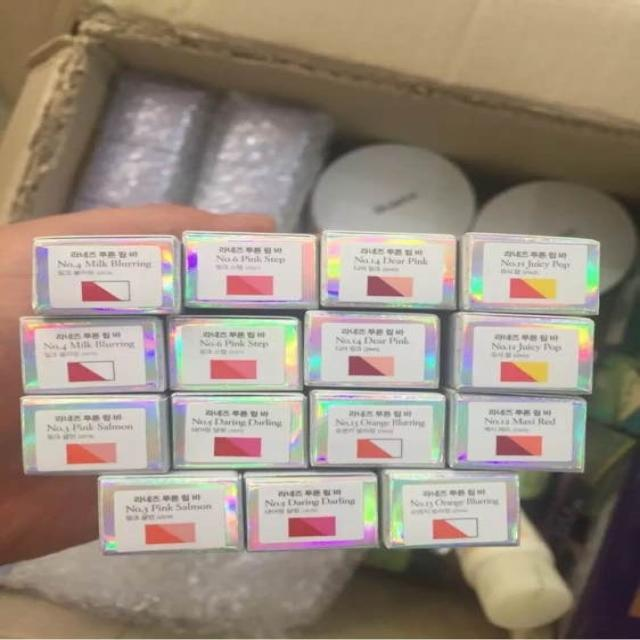box: (100, 468, 244, 556), (22, 393, 173, 476), (443, 312, 594, 395), (34, 236, 184, 315), (457, 233, 600, 315), (446, 390, 585, 474), (19, 316, 169, 393), (306, 389, 450, 468), (380, 468, 522, 548), (304, 311, 444, 390), (244, 471, 380, 552), (320, 230, 456, 310), (172, 391, 309, 469), (183, 232, 318, 309), (164, 317, 303, 390)
